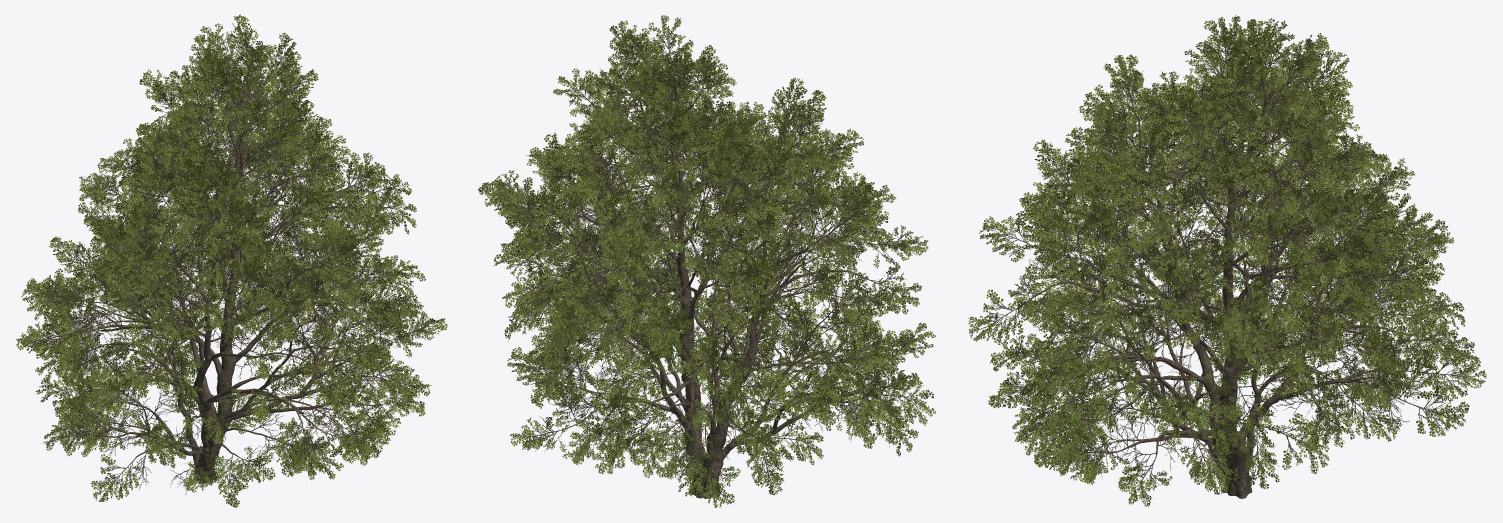
The model's file is SM_BlackAlder_Field_02_PP_LOD2.gltf.
3 views of the same model, side by side, from view 1: azimuth 30°, elevation 25°; view 2: azimuth 150°, elevation 25°; view 3: azimuth 270°, elevation 25° (orthographic). The views are drawn at different scales.
Visible parts, largest first — view 1: SM_BlackAlder_Field_02_PP; view 2: SM_BlackAlder_Field_02_PP; view 3: SM_BlackAlder_Field_02_PP.
Part boxes in pixels (left/top/right/bottom): SM_BlackAlder_Field_02_PP: left=16, top=14, right=447, bottom=507; SM_BlackAlder_Field_02_PP: left=478, top=15, right=935, bottom=507; SM_BlackAlder_Field_02_PP: left=968, top=15, right=1486, bottom=506.
Size of the model in its own units: 16.37 by 17.21 by 16.25.
Materials: 3 (3 with a texture image).
